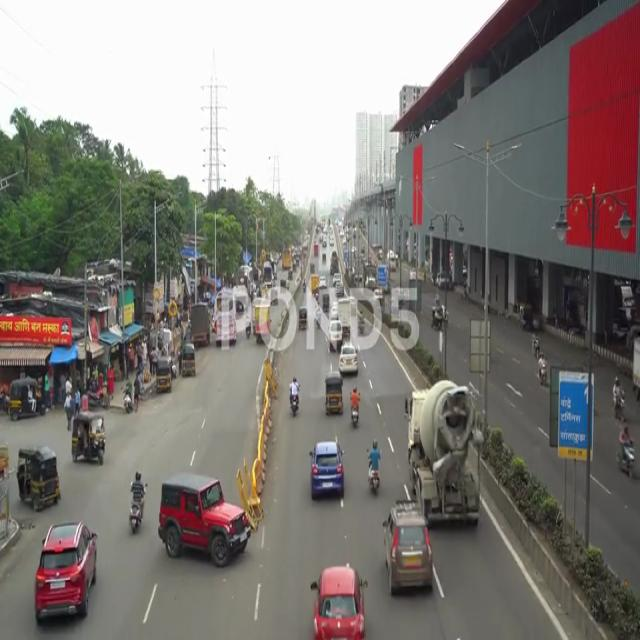car: (373, 503, 442, 612), (29, 520, 100, 622), (307, 564, 367, 640), (309, 436, 344, 502)
motorbike: (287, 371, 303, 422)
rikshaw: (17, 442, 60, 508), (72, 409, 106, 472)
